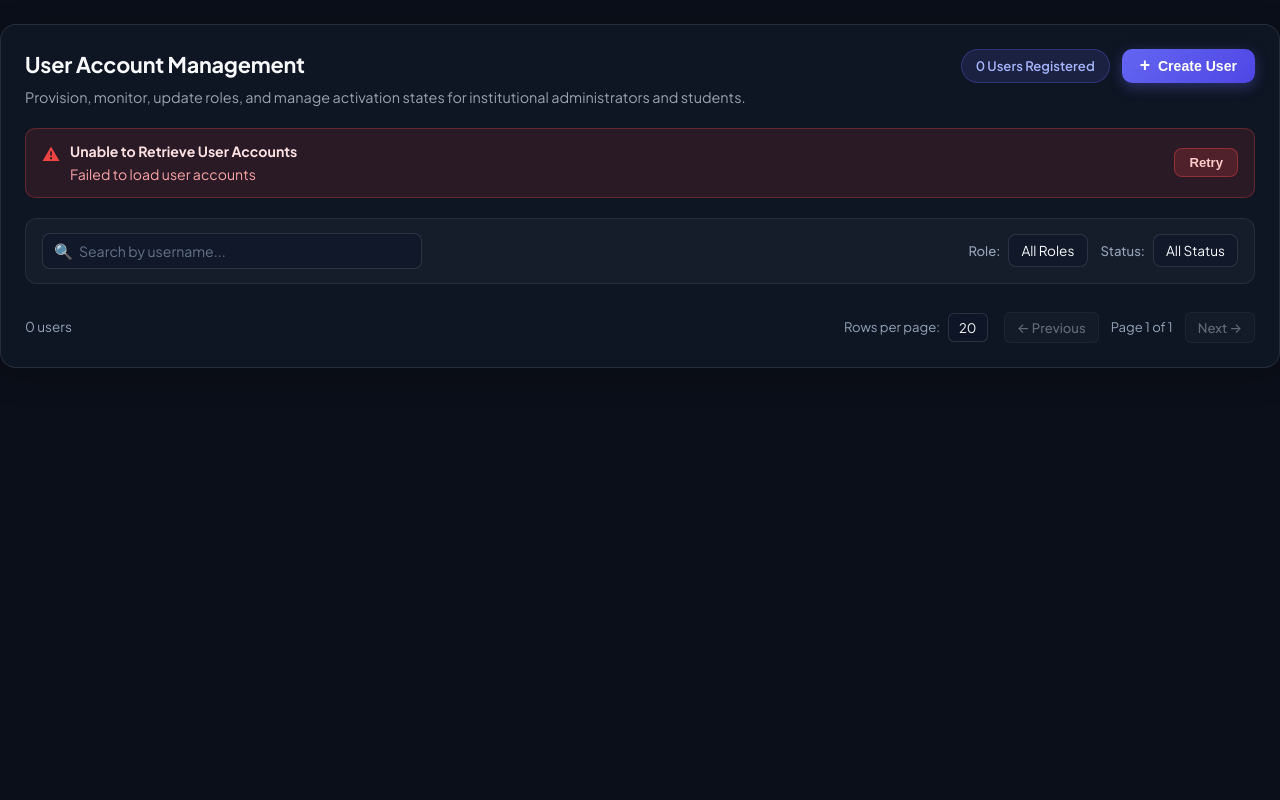
UserManagement Component › renders error banner and retry button when fetching users fails
Expected: the message shows "Unable to Retrieve User Accounts", [70, 142, 297, 160]
Click the button "Retry". click: [1206, 163]
box: [1174, 148, 1238, 177]
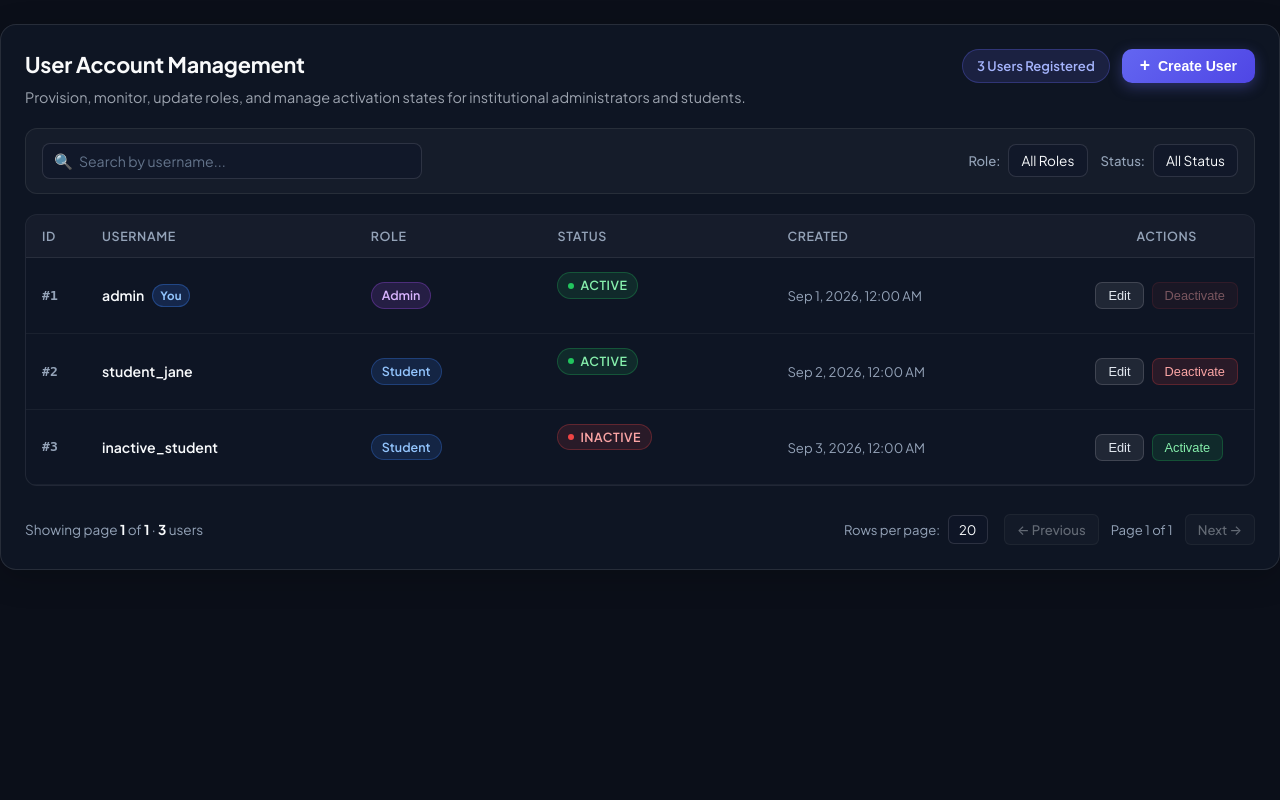
Now the text "student_jane" is shown, box [102, 361, 193, 382]
